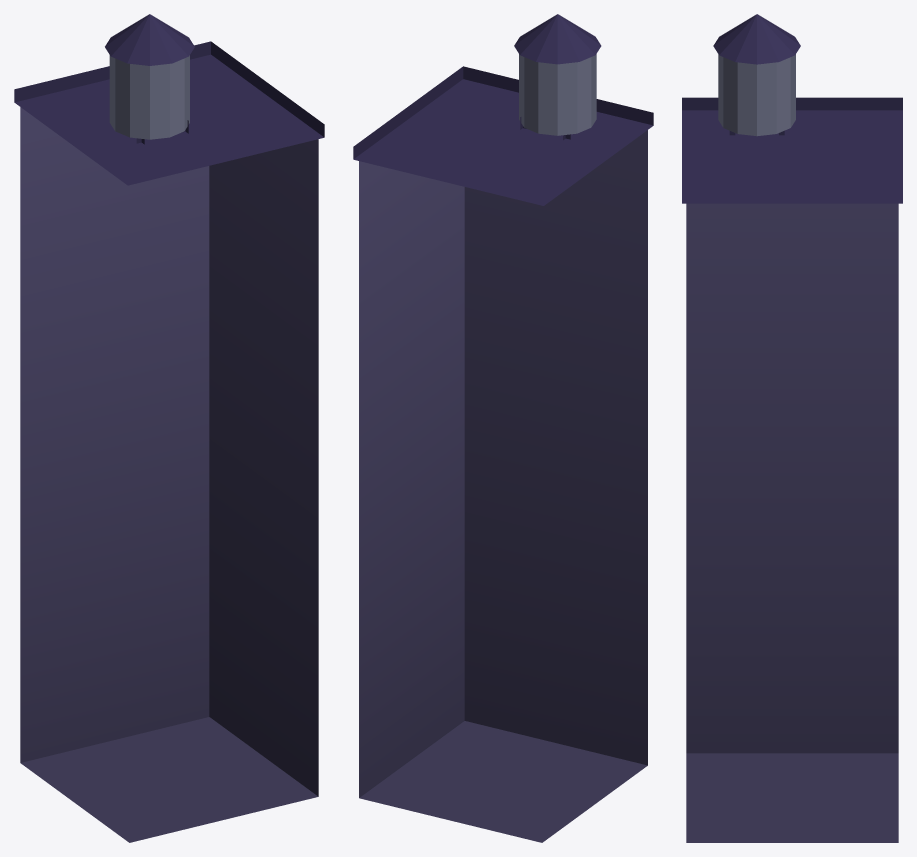
Rendered from hop_tower_b.glb.
3 views of the same model, side by side, from view 1: azimuth 30°, elevation 25°; view 2: azimuth 150°, elevation 25°; view 3: azimuth 270°, elevation 25° (orthographic). The views are drawn at different scales.
Parts seen in each view (by area): view 1: hop_tower_b; view 2: hop_tower_b; view 3: hop_tower_b.
Boxes of the visible parts, x1,y1,x2,y2 form: hop_tower_b: [14, 14, 324, 842]; hop_tower_b: [353, 14, 653, 842]; hop_tower_b: [682, 14, 902, 842].
Bounding box in the file's own units: 3.12 × 11.95 × 3.12.
